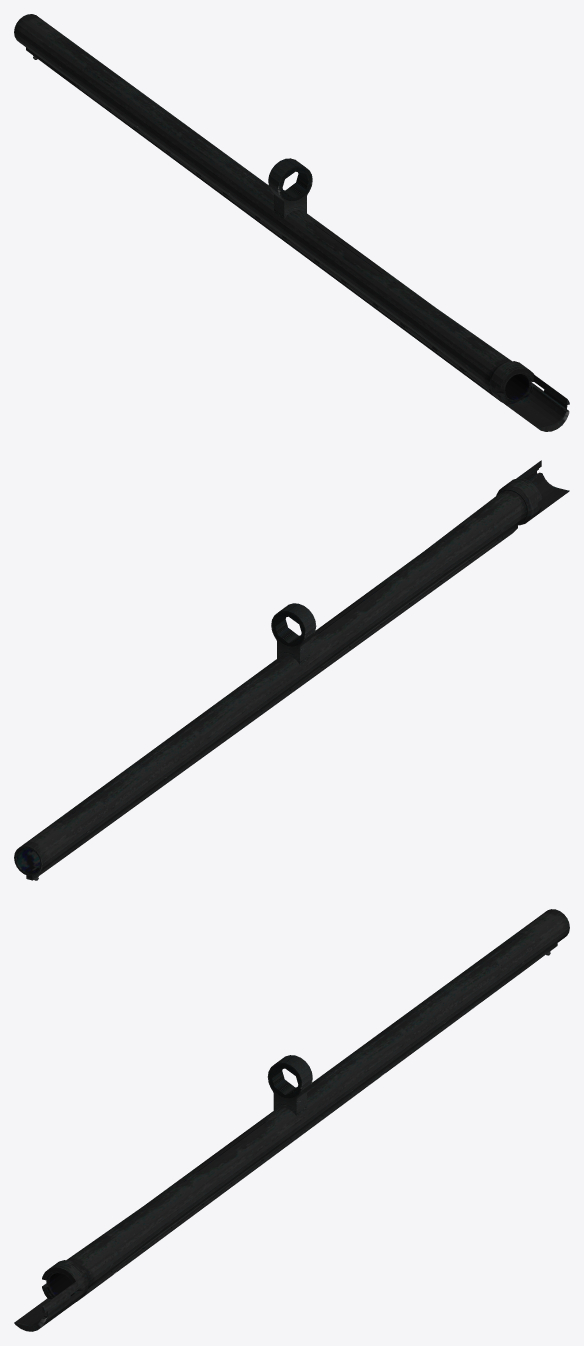
The picture shows the model from 3 angles, top to bottom: view 1: azimuth 30°, elevation 25°; view 2: azimuth 150°, elevation 25°; view 3: azimuth 330°, elevation 25°; orthographic projection.
Parts seen in each view (by area): view 1: TW_560837154bdc2da74d8b4568_PZ_Import; view 2: TW_560837154bdc2da74d8b4568_PZ_Import; view 3: TW_560837154bdc2da74d8b4568_PZ_Import.
Boxes of the visible parts, x1,y1,x2,y2 form: TW_560837154bdc2da74d8b4568_PZ_Import: [14, 14, 569, 431]; TW_560837154bdc2da74d8b4568_PZ_Import: [14, 460, 569, 880]; TW_560837154bdc2da74d8b4568_PZ_Import: [14, 909, 569, 1331].
Size of the model in its own units: 0.0167 by 0.4079 by 0.0359.
1 material, 1 textured.
